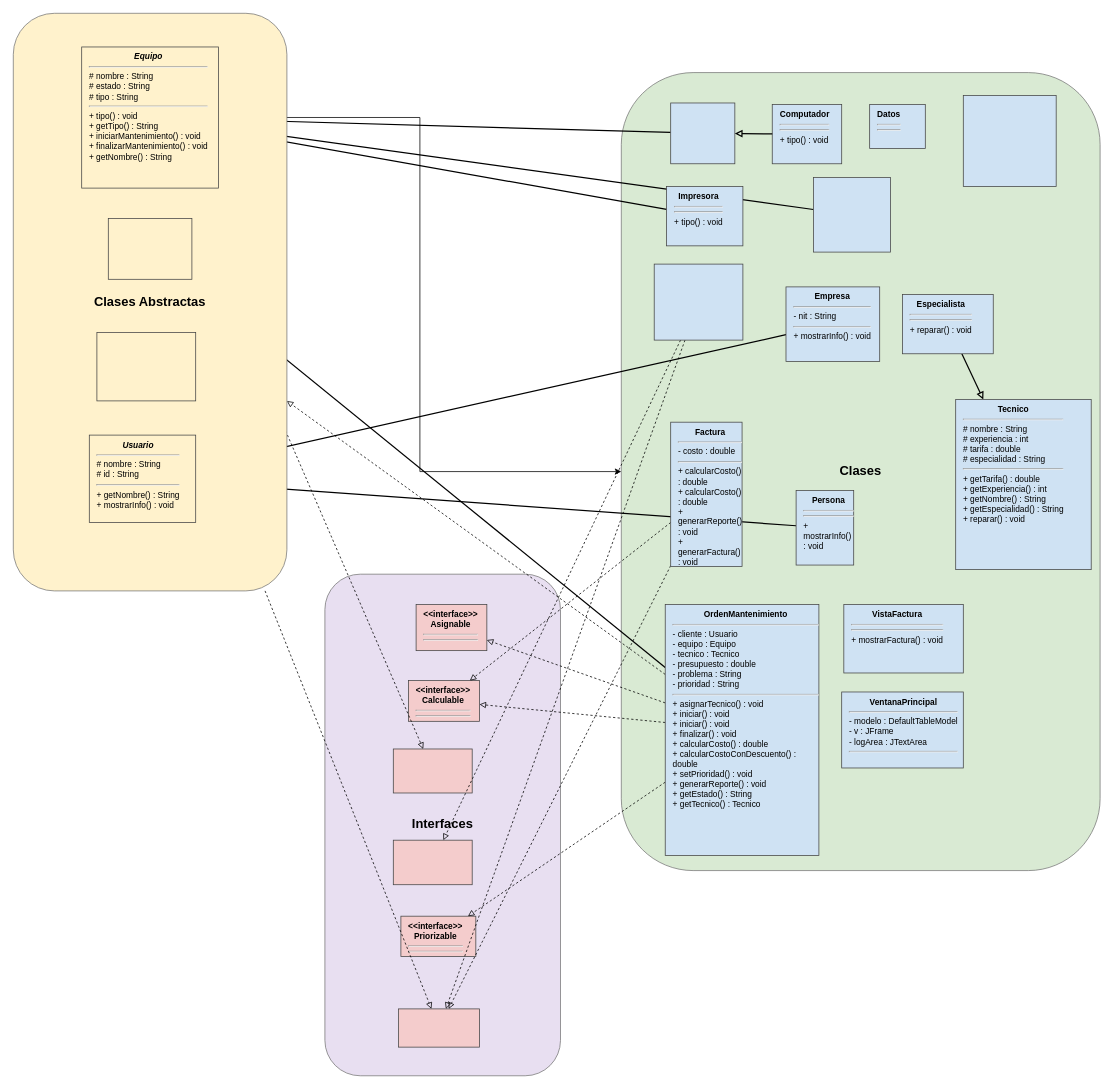
Some shapes in this 1113 by 1089 pixel diagram are drawn without their labels. The shapes that lost their labels are listed below. From the top down, each one's centre as x and y in pixels, then its label:
At pixel 702 133: "Main + main() : void".
At pixel 1009 141: "AsignadorTecnico + asignar() : Tecnico + asignar() : Tecnico".
At pixel 851 214: "Televisor + tipo() : void".
At pixel 150 248: "OrdenBase # estado : String + iniciar() : void + finalizar() : void".
At pixel 698 301: "Notificacion + enviar() : void + enviar() : void + generarReporte() : void".
At pixel 146 366: "Servicio # descripcion : String + ejecutar() : void".
At pixel 432 770: "<<interface>> Mantenible".
At pixel 432 862: "<<interface>> Notificable".
At pixel 439 1027: "<<interface>> Reportable".
